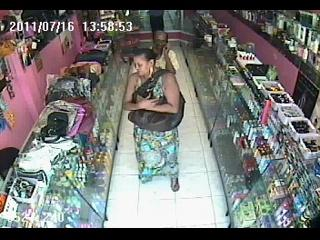Normal: (122, 48, 184, 192), (152, 31, 176, 75), (76, 50, 109, 65)
